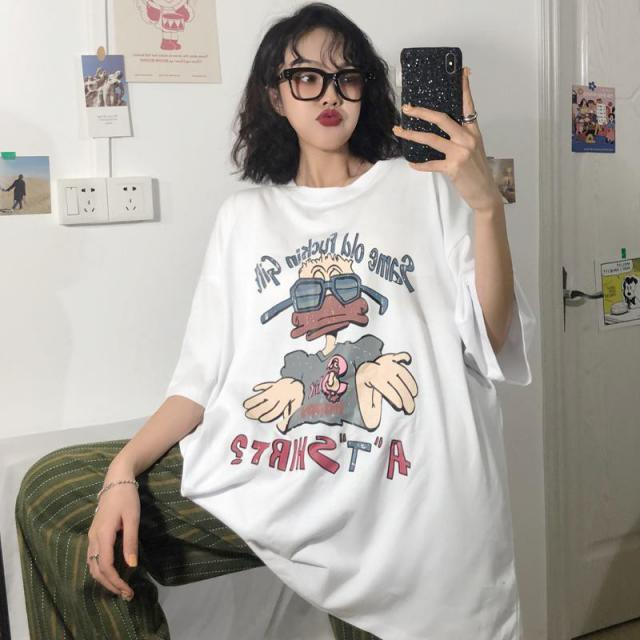Shirt: (167, 147, 542, 639)
